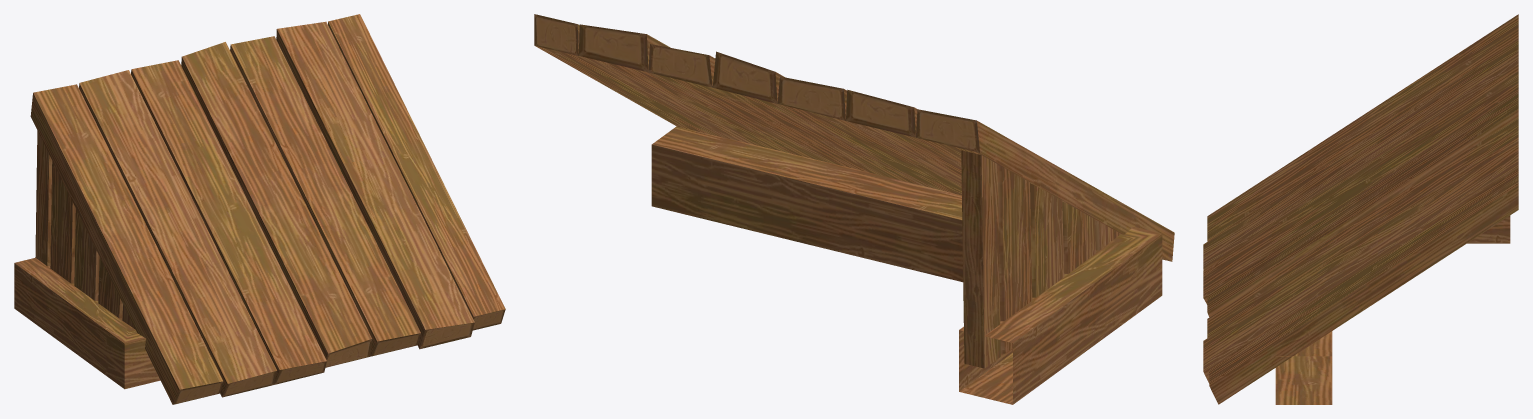
Rendered from roof_wooden_2x1_l.glb.
The picture shows the model from 3 angles, left to right: view 1: azimuth 30°, elevation 25°; view 2: azimuth 150°, elevation 25°; view 3: azimuth 270°, elevation 25°; orthographic projection. The views are drawn at different scales.
Bounding box in the file's own units: 2.13 × 1.25 × 1.56.
Materials: 1 (1 with a texture image).
